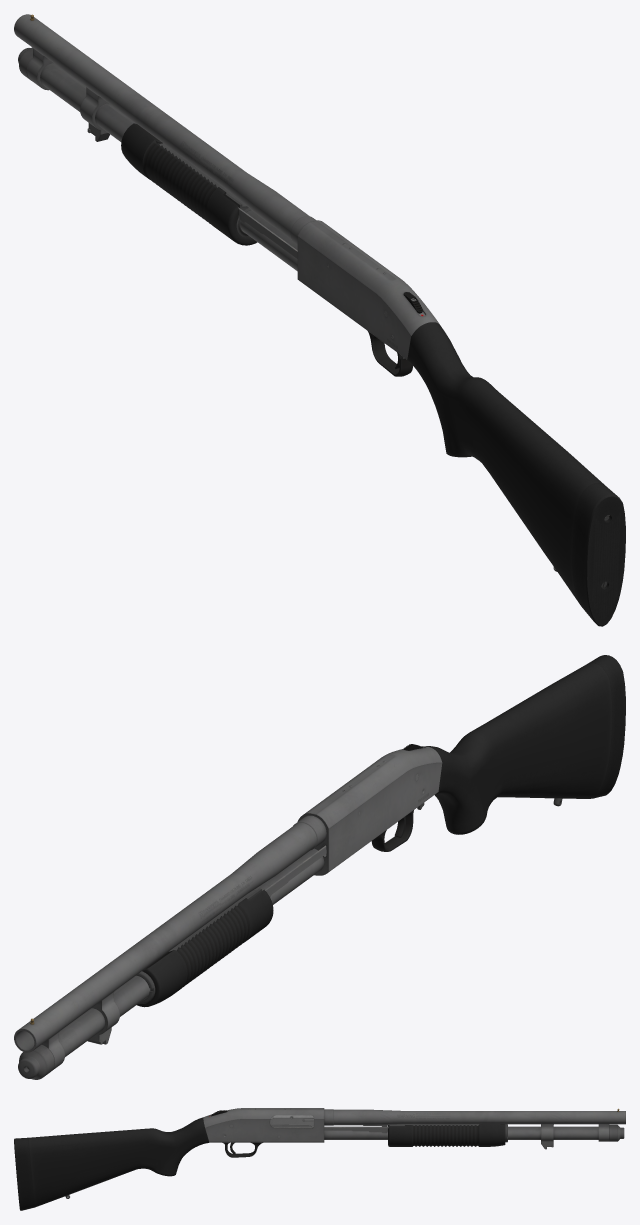
The model's file is mossberg_590_mariner.glb.
3 renders of one model, top to bottom at view 1: azimuth 30°, elevation 25°; view 2: azimuth 150°, elevation 25°; view 3: azimuth 270°, elevation 25°, orthographic. The views are drawn at different scales.
Visible parts, largest first — view 1: m590_receiver; view 2: m590_receiver; view 3: m590_receiver.
Part boxes in pixels (box(x1,y1,x2,y2)): m590_receiver: box(14, 14, 625, 626); m590_receiver: box(14, 655, 625, 1079); m590_receiver: box(14, 1108, 625, 1210).
Bounding box in the file's own units: 0.4335 × 1.78 × 9.68.
Materials: 2 (2 with a texture image).
